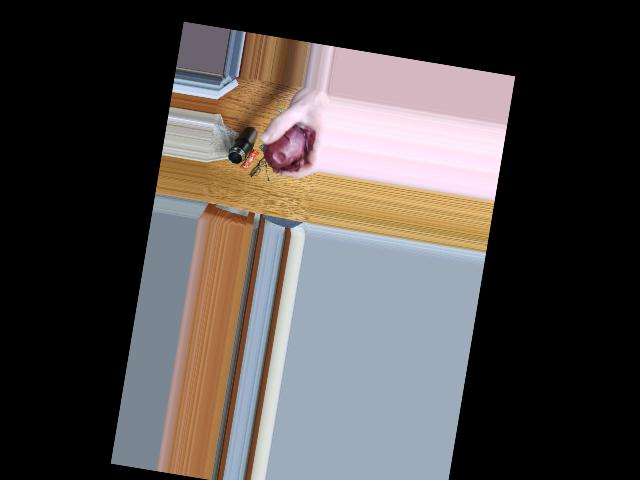onion: (260, 120, 311, 173)
